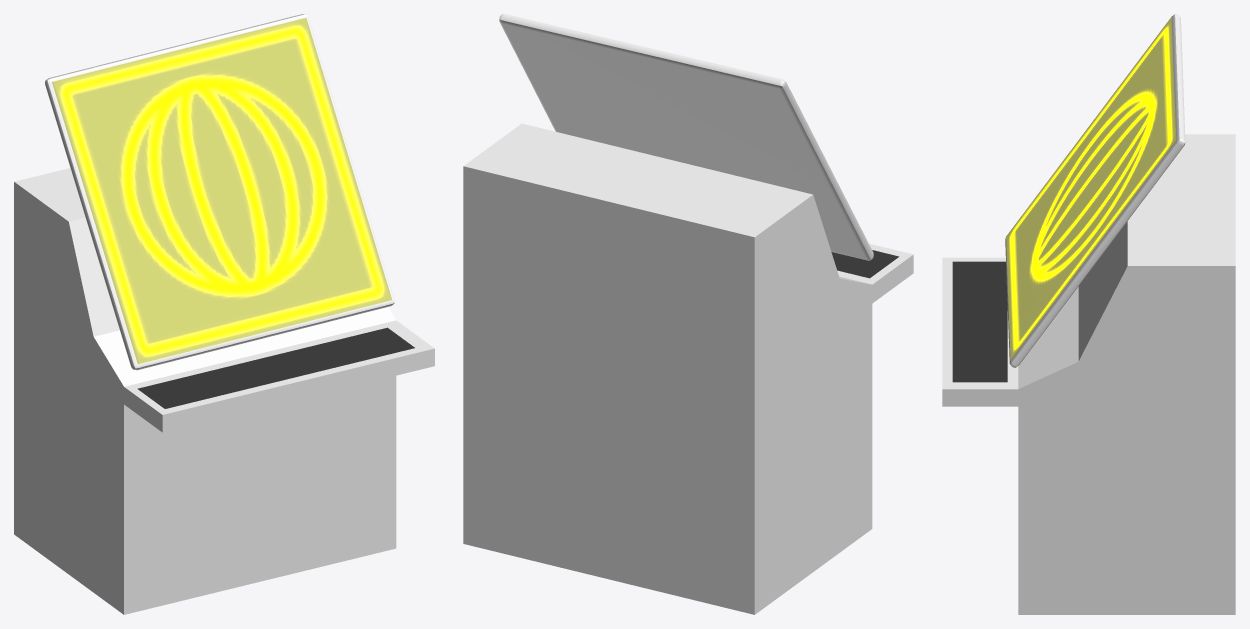
The model's file is BridgeComputer_01.fbx.
3 renders of one model, left to right at view 1: azimuth 30°, elevation 25°; view 2: azimuth 150°, elevation 25°; view 3: azimuth 270°, elevation 25°, orthographic. The views are drawn at different scales.
Visible parts, largest first — view 1: BridgeComputer_01; view 2: BridgeComputer_01; view 3: BridgeComputer_01.
Part boxes in pixels (x1,y1,x2,y2): BridgeComputer_01: [14, 14, 434, 614]; BridgeComputer_01: [463, 14, 913, 614]; BridgeComputer_01: [942, 14, 1235, 614].
Size of the model in its own units: 311 by 521 by 294.
